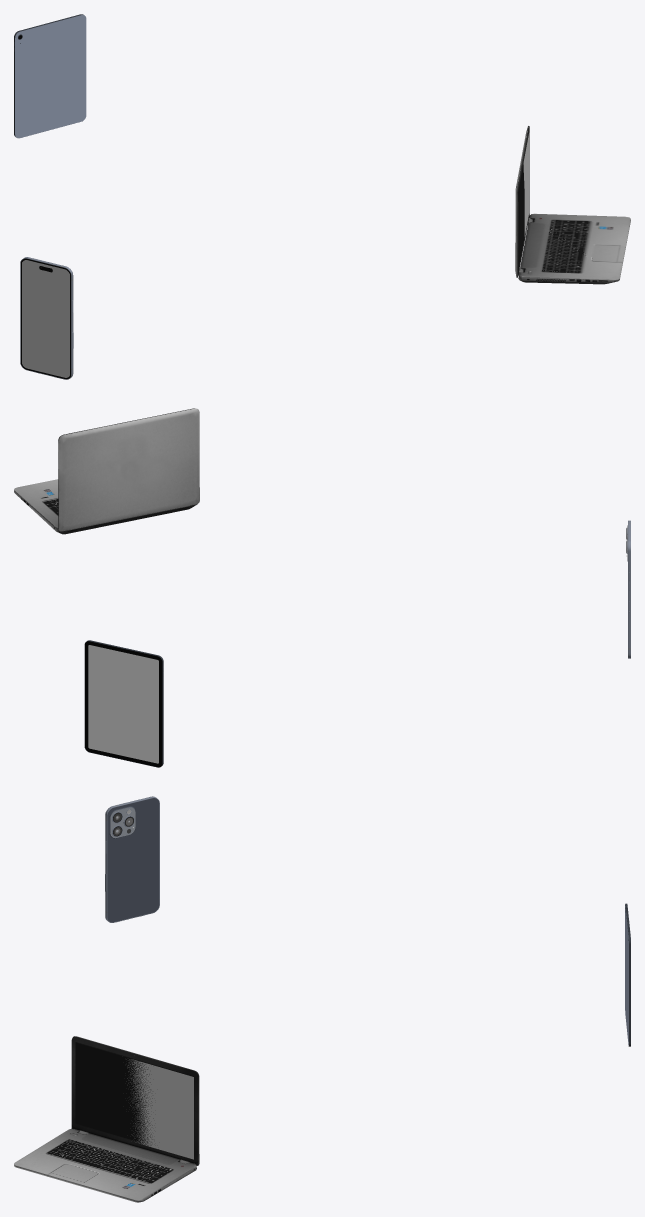
File: PcTabletMobile3DSet.gltf
The picture shows the model from 3 angles, top to bottom: view 1: azimuth 30°, elevation 25°; view 2: azimuth 150°, elevation 25°; view 3: azimuth 270°, elevation 25°; orthographic projection. The views are drawn at different scales.
Parts seen in each view (by area): view 1: Layer 01 53, polySurface28.001, main body, polySurface6.001, body metal frame, notebook_screen; view 2: polySurface6.001, TabletScreen, polySurface28.001, Layer 03 19; view 3: polySurface6.001, polySurface28.001, main body, notebook_screen, body metal frame.
Boxes of the visible parts, x1,y1,x2,y2 form: Layer 01 53: (15,15,86,138); polySurface28.001: (518,213,630,284); main body: (21,258,70,379); polySurface6.001: (515,126,534,277); body metal frame: (20,257,73,379); notebook_screen: (523,133,529,236); polySurface6.001: (58,408,199,531); TabletScreen: (88,645,158,763); polySurface28.001: (14,479,197,534); Layer 03 19: (85,641,162,767); polySurface6.001: (71,1036,199,1165); polySurface28.001: (14,1128,196,1202); main body: (107,798,159,922); notebook_screen: (126,1059,193,1159); body metal frame: (105,796,159,922).
Bounding box in the file's own units: 2.01 × 0.375 × 1.73.
